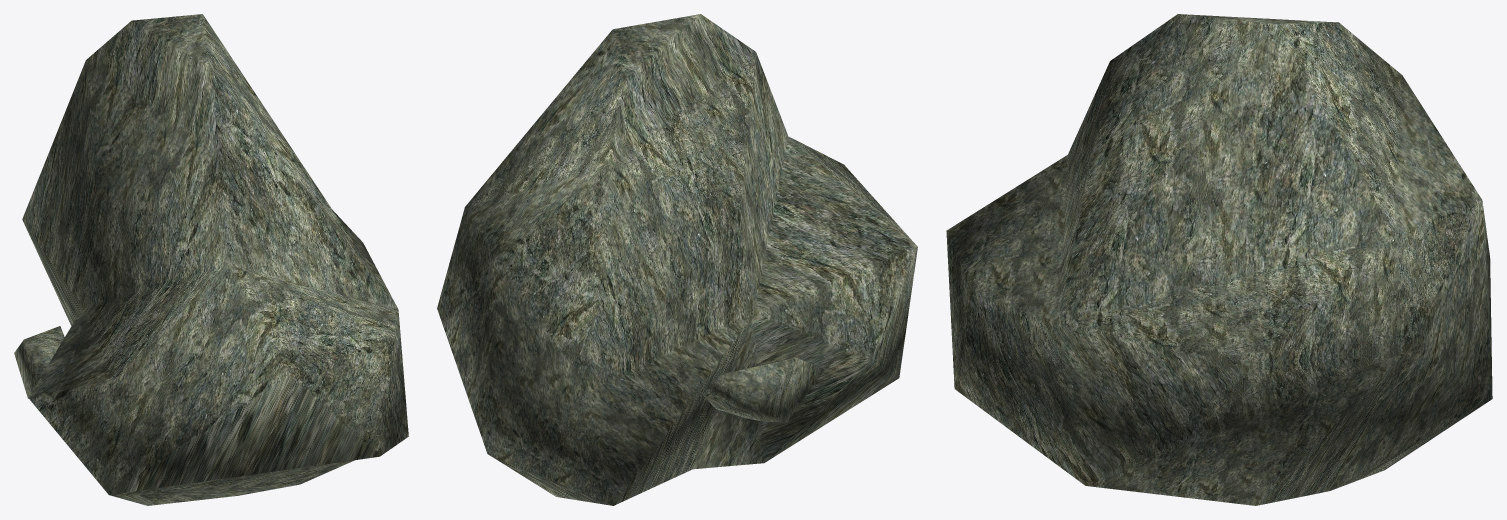
Rendered from mtns_rock_grey_a3_l2.fbx.
3 renders of one model, left to right at view 1: azimuth 30°, elevation 25°; view 2: azimuth 150°, elevation 25°; view 3: azimuth 270°, elevation 25°, orthographic. The views are drawn at different scales.
Parts seen in each view (by area): view 1: mesh_node; view 2: mesh_node; view 3: mesh_node.
Part boxes in pixels (left/top/right/bottom): mesh_node: left=14, top=14, right=408, bottom=505; mesh_node: left=437, top=14, right=917, bottom=505; mesh_node: left=946, top=14, right=1492, bottom=505.
Bounding box in the file's own units: 2.64 × 2.98 × 3.3.
Materials: 1 (1 with a texture image).
